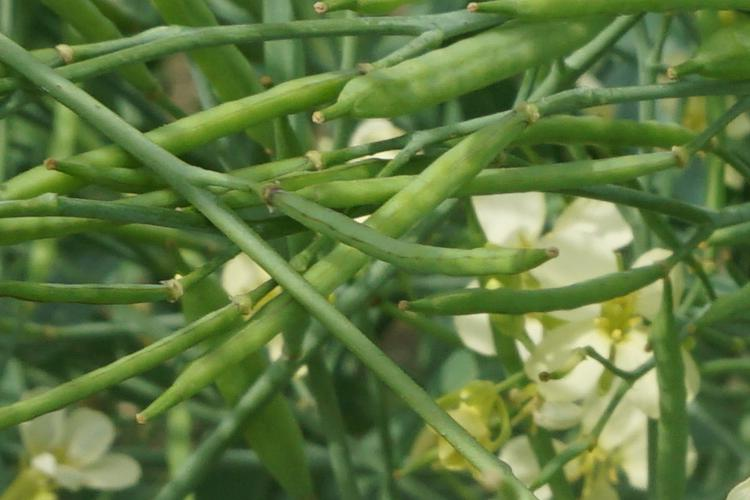pod: (261, 188, 577, 281), (86, 282, 307, 413), (301, 38, 593, 124), (283, 199, 558, 284), (381, 273, 679, 331), (35, 141, 264, 204), (464, 5, 703, 37), (306, 5, 414, 30)
white: (502, 288, 713, 472), (438, 192, 623, 368)
